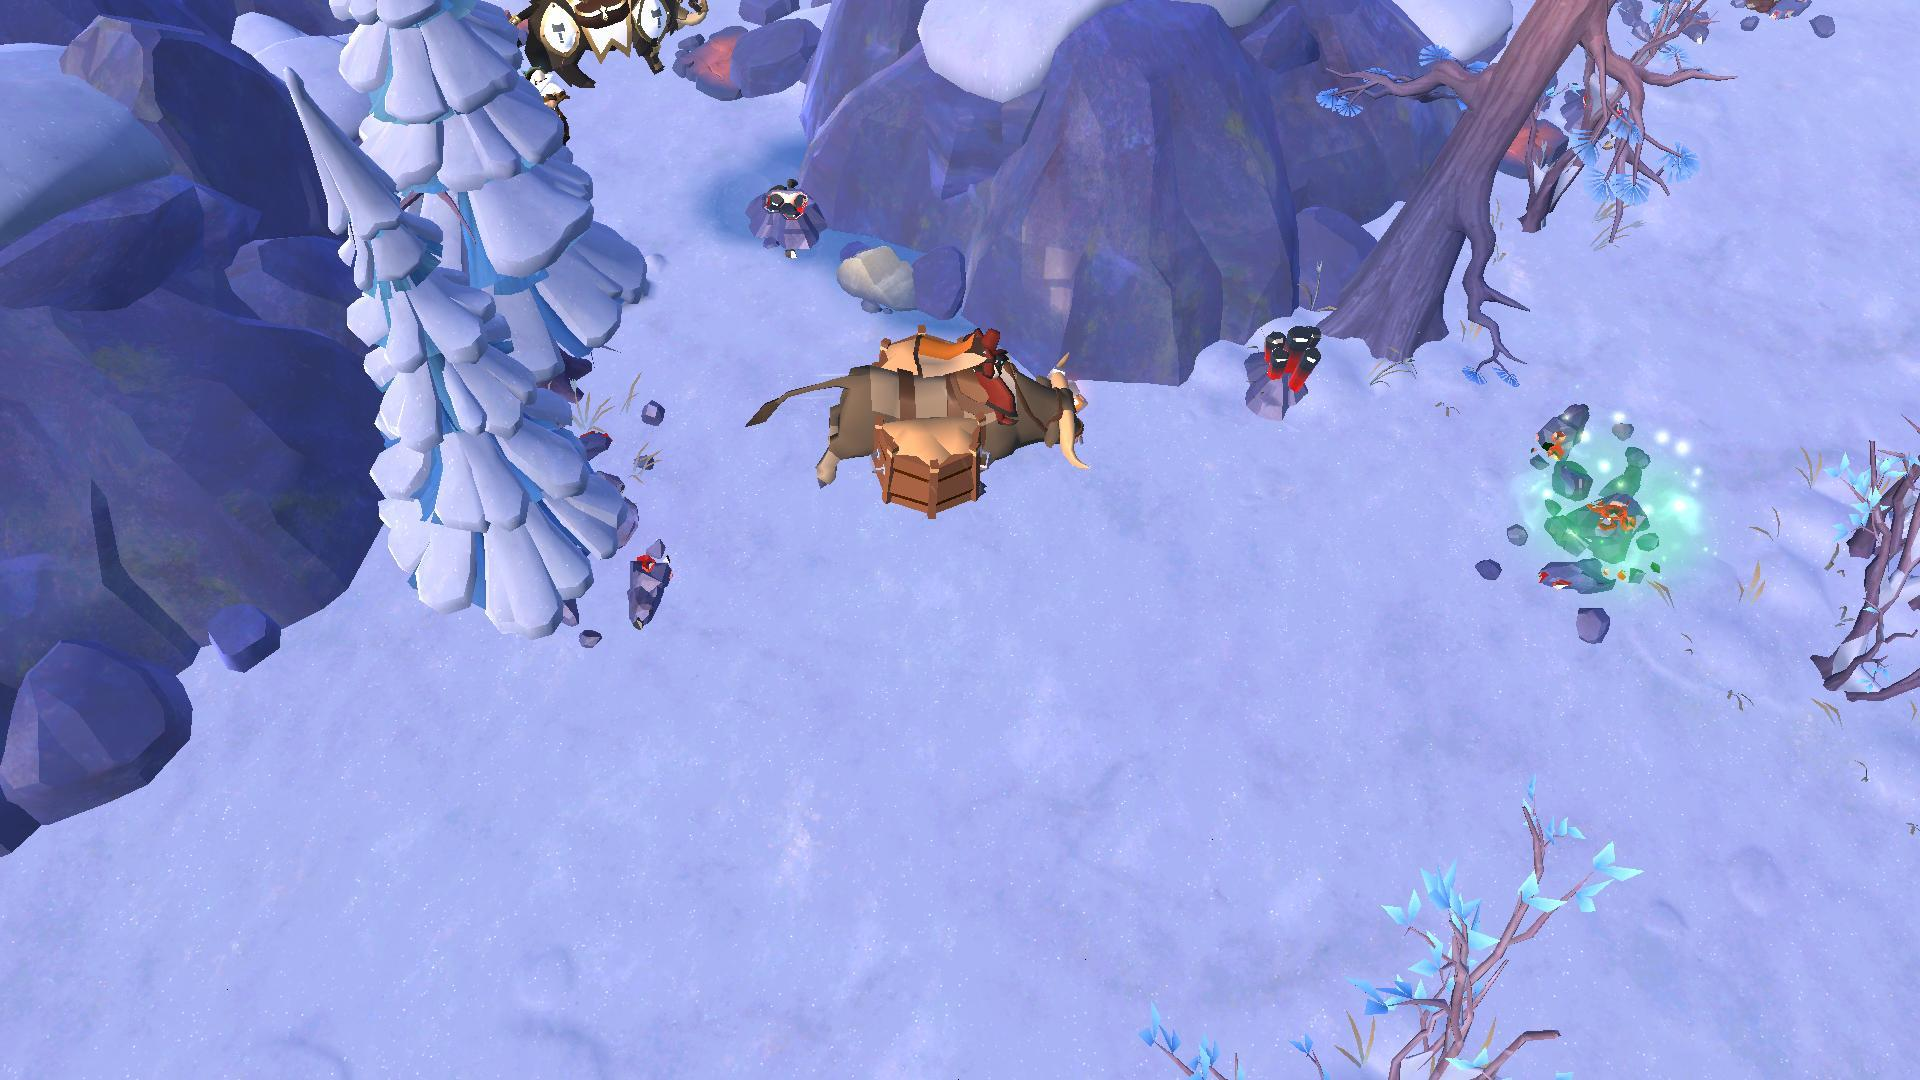ore_t5: (1253, 315, 1327, 397)
